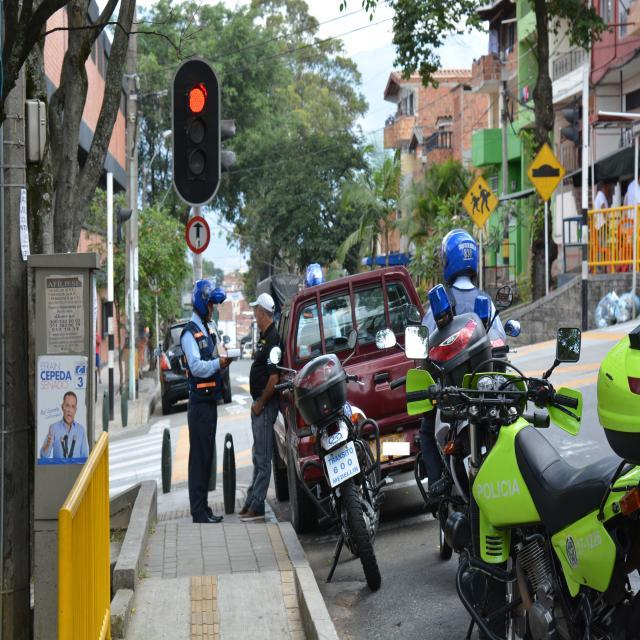traffic light: (170, 61, 220, 198)
